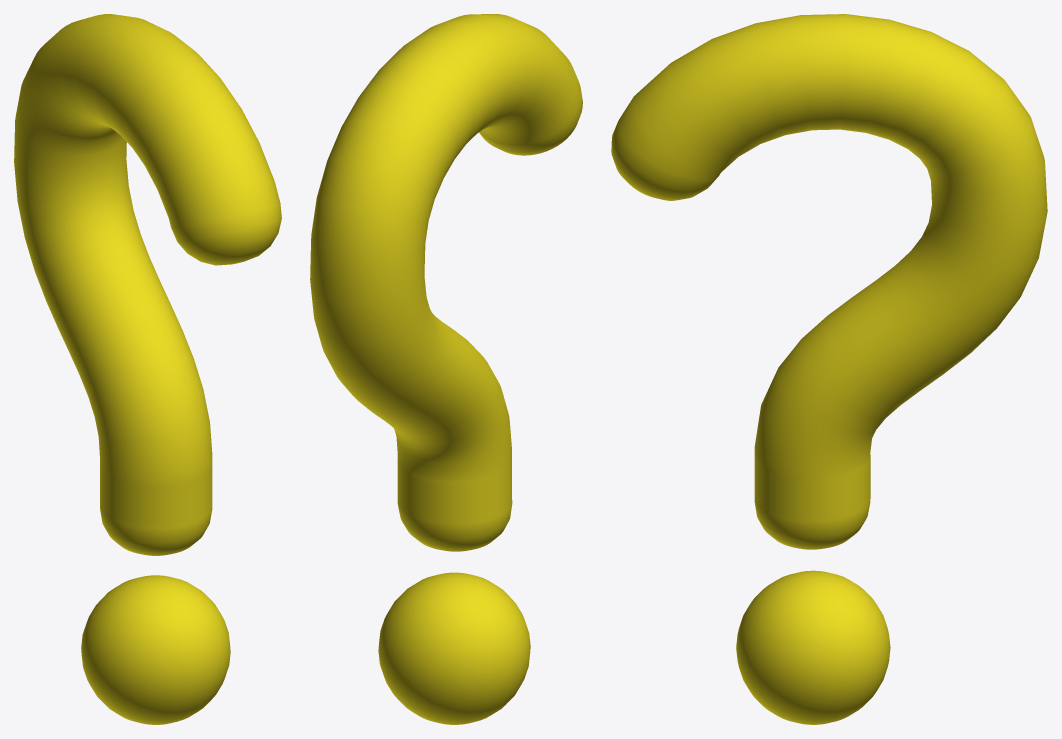
The model's file is QuestionMakr.fbx.
The picture shows the model from 3 angles, left to right: view 1: azimuth 30°, elevation 25°; view 2: azimuth 150°, elevation 25°; view 3: azimuth 270°, elevation 25°; orthographic projection. The views are drawn at different scales.
Visible parts, largest first — view 1: Sphere.002; view 2: Sphere.002; view 3: Sphere.002.
Part boxes in pixels (x1,y1,x2,y2): Sphere.002: (14, 14, 281, 724); Sphere.002: (310, 14, 582, 724); Sphere.002: (611, 14, 1047, 724).
Bounding box in the file's own units: 200 × 998 × 565.
